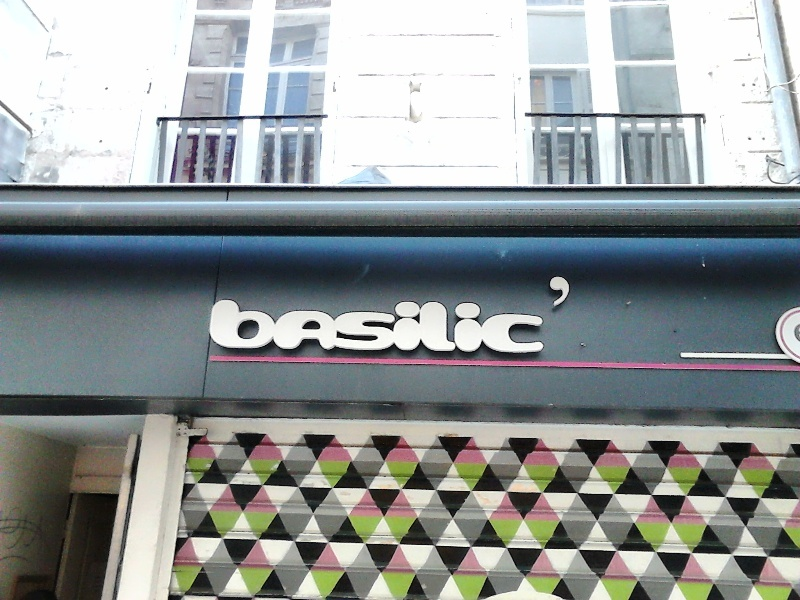text: (225, 276, 240, 354), (241, 276, 256, 354), (257, 276, 272, 354), (273, 276, 288, 354), (289, 276, 304, 354), (305, 276, 320, 354), (321, 276, 336, 354), (337, 276, 352, 354), (353, 276, 368, 354), (369, 276, 384, 354), (385, 276, 400, 354), (401, 276, 416, 354), (417, 276, 432, 354), (433, 276, 448, 354), (449, 276, 464, 354), (465, 276, 480, 354), (481, 276, 496, 354), (497, 276, 512, 354), (513, 276, 528, 354), (529, 276, 544, 354), (545, 276, 560, 354), (561, 276, 576, 354), (214, 276, 224, 354), (577, 276, 585, 354)
